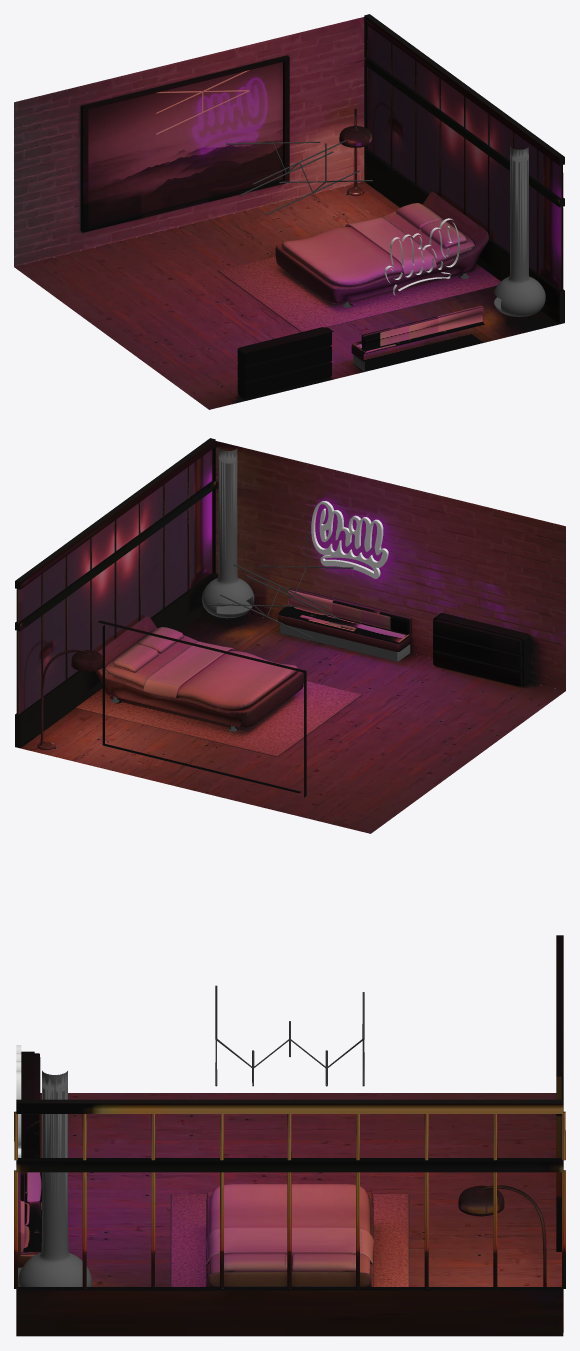
File: chambre.glb
3 renders of one model, top to bottom at view 1: azimuth 30°, elevation 25°; view 2: azimuth 150°, elevation 25°; view 3: azimuth 270°, elevation 25°, orthographic. The views are drawn at different scales.
Size of the model in its own units: 6.14 by 2.88 by 5.87.
17 materials, 14 textured.
